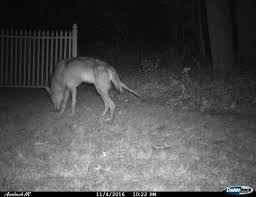coyote: (43, 52, 145, 128)
